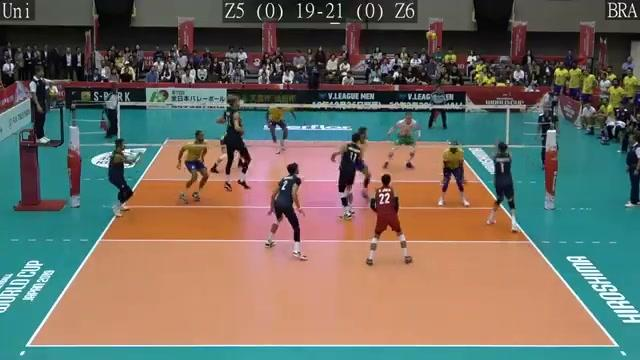ball: (425, 30, 438, 42)
